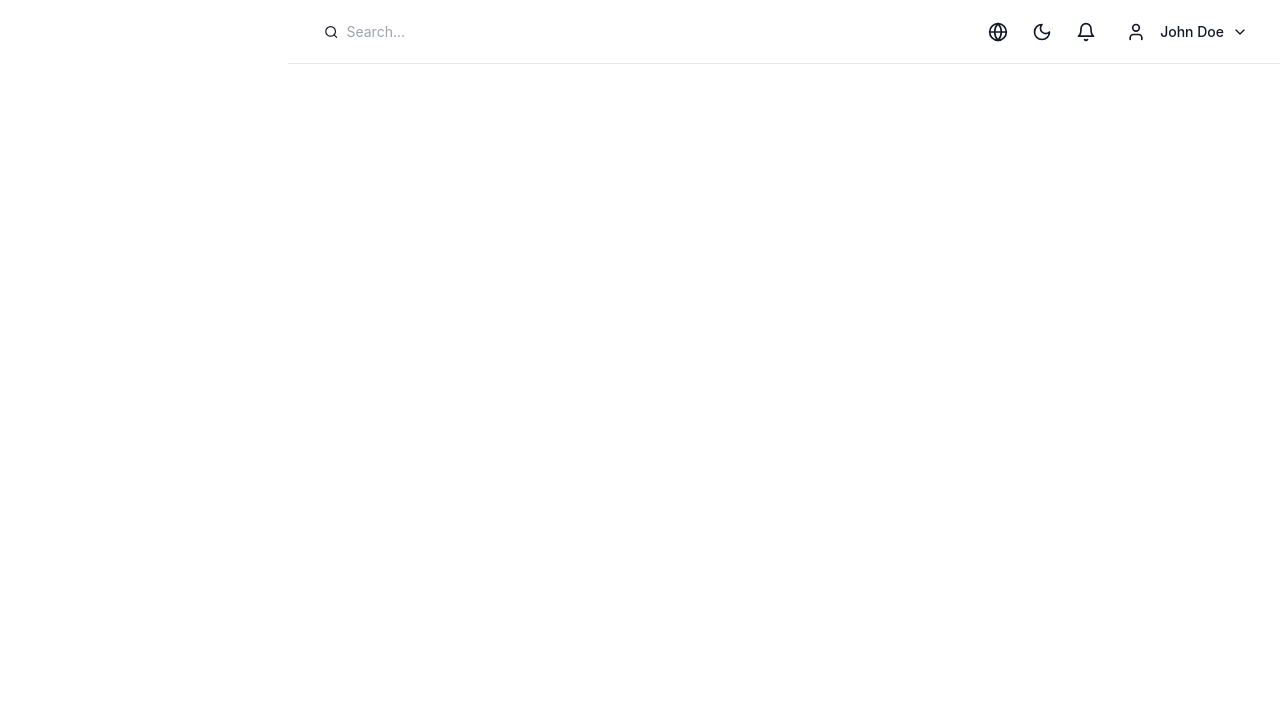
Test: AdminHeader › opens and closes user menu dropdown
Expected: the text "Profile" is not shown
Click user menu button
Click the button "John Doe": (1184, 32) left=1112, top=8, right=1256, bottom=56
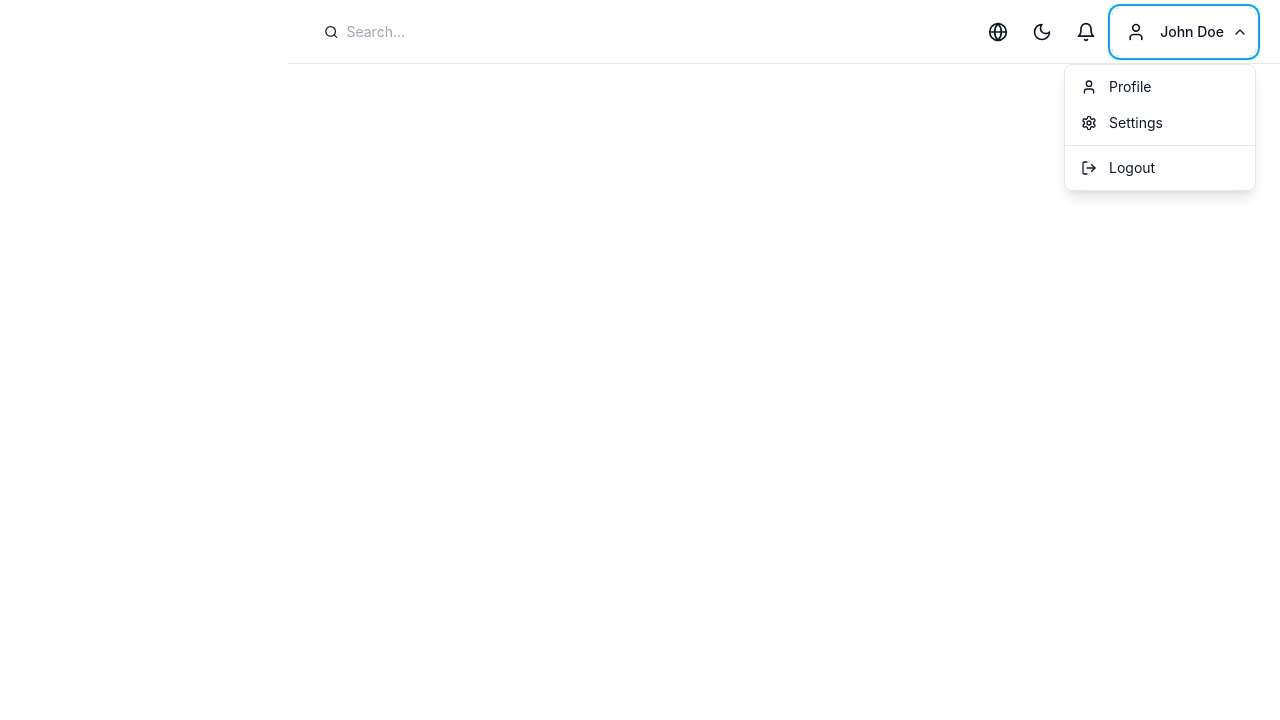
Result: the text "Profile" is shown at left=1109, top=76, right=1152, bottom=96
Result: the text "Settings" is shown at left=1109, top=112, right=1163, bottom=132
Result: the text "Logout" is shown at left=1109, top=158, right=1155, bottom=178
Click the element with class "inset-0": (640, 360) left=0, top=0, right=1279, bottom=719
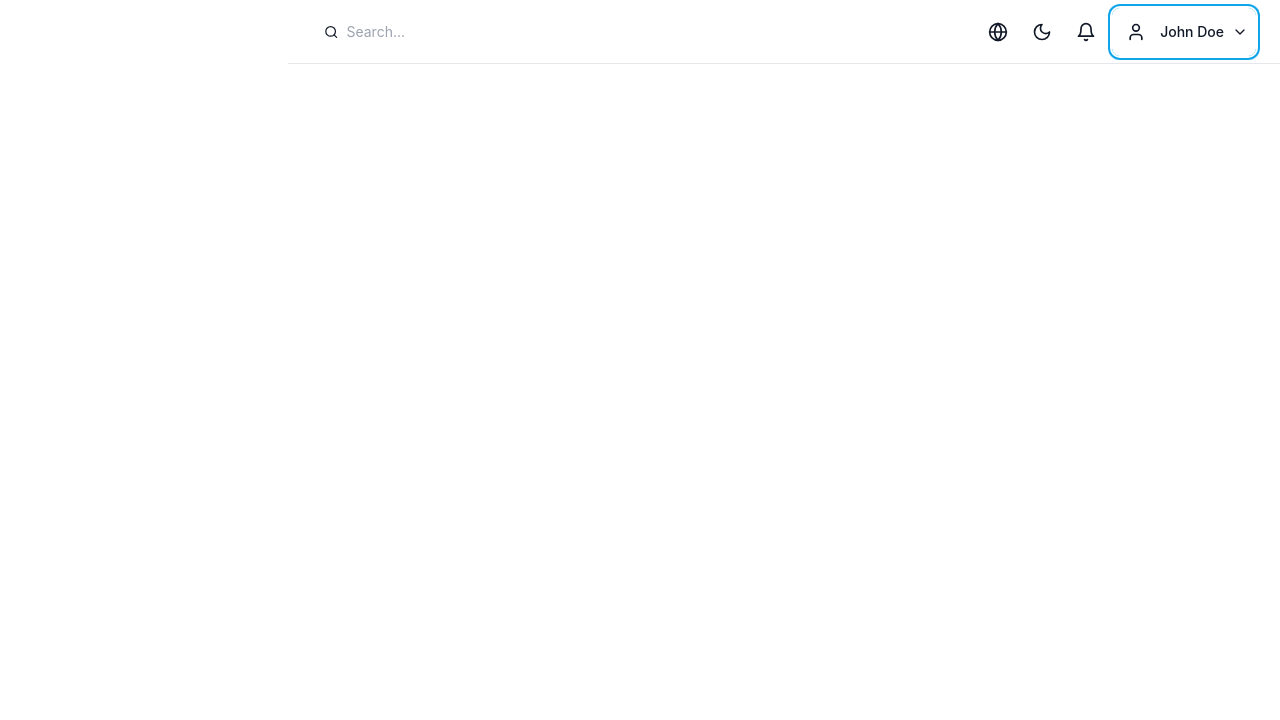
Result: the link "Profile" is gone
